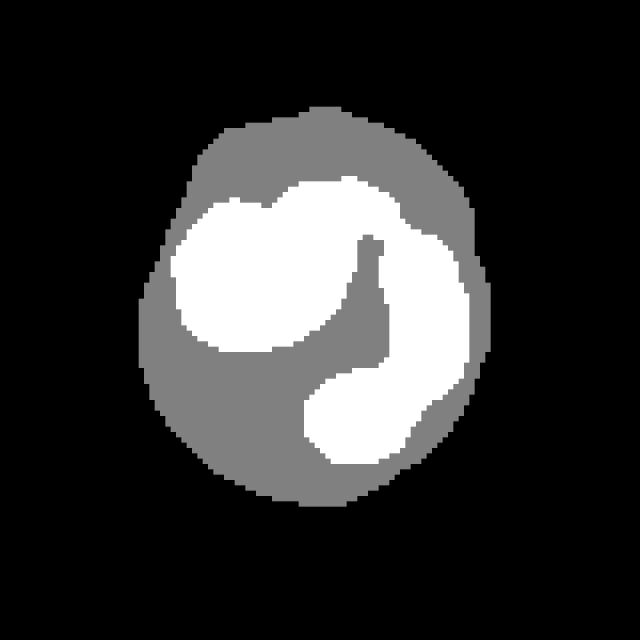WBC: (133, 85, 507, 539)
